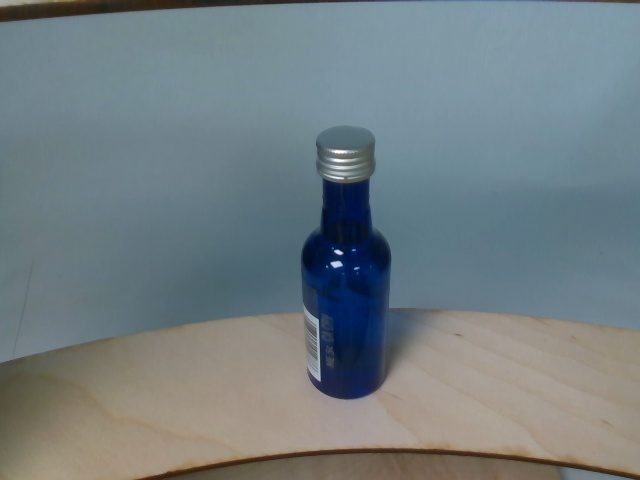tonic_water: (300, 126, 391, 399)
